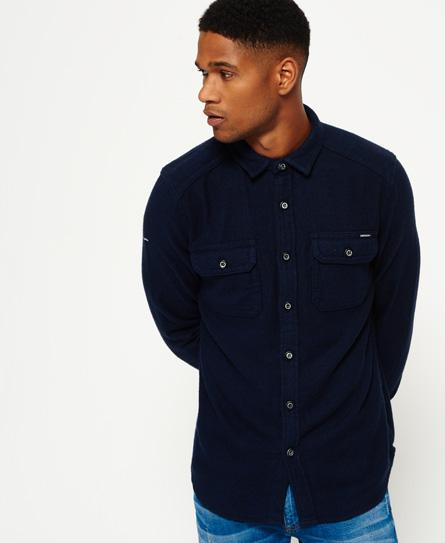teeshirt: (143, 117, 430, 510)
